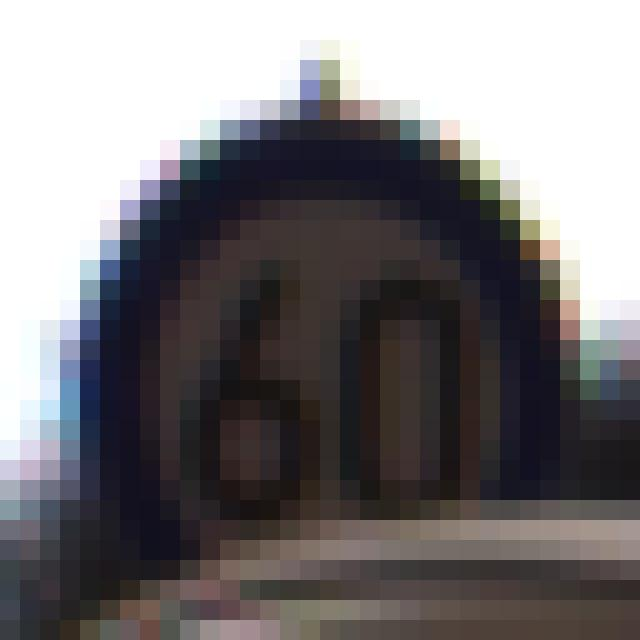SPEED-LIMIT-60: (69, 119, 578, 612)
